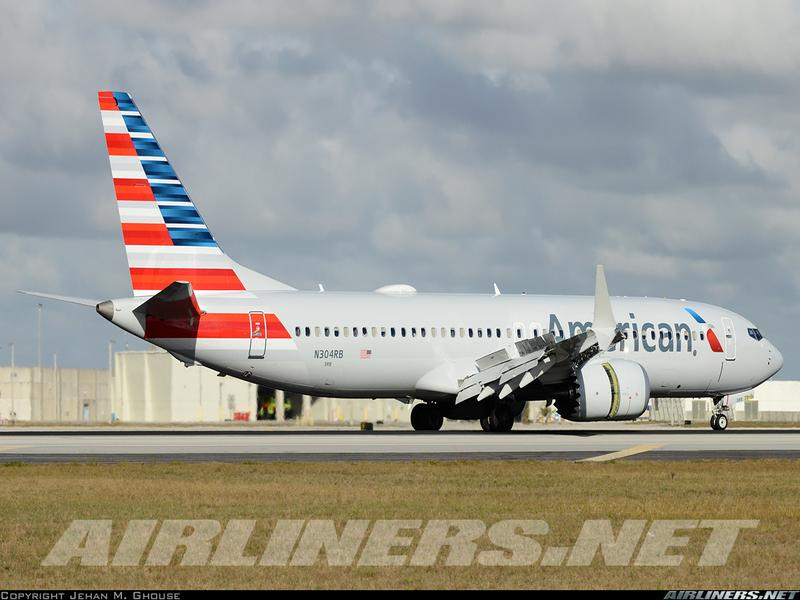737-MAX: (12, 88, 791, 437)
